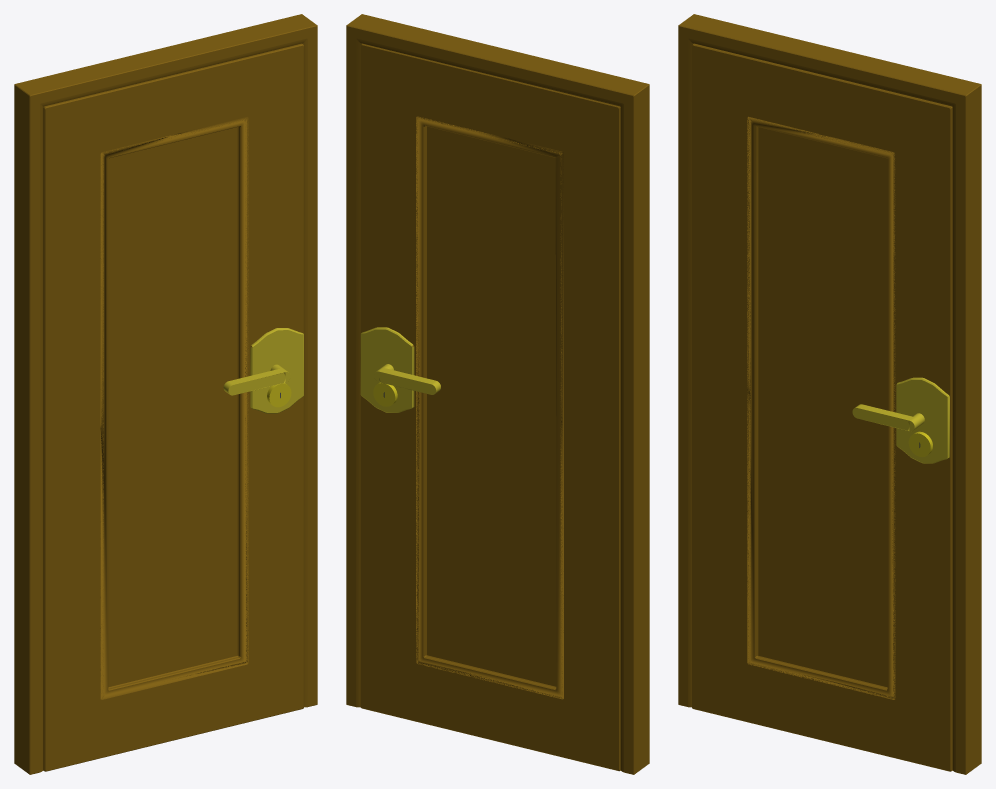
3 renders of one model, left to right at view 1: azimuth 30°, elevation 25°; view 2: azimuth 150°, elevation 25°; view 3: azimuth 330°, elevation 25°, orthographic.
Visible parts, largest first — view 1: 平面.001, 平面, 平面.002, 円; view 2: 平面.001, 平面, 平面.002, 円; view 3: 平面.001, 平面, 平面.002, 円.
Part boxes in pixels (x1,y1,x2,y2): 平面.001: (43, 43, 303, 771); 平面: (14, 14, 317, 774); 平面.002: (250, 328, 303, 413); 円: (223, 364, 290, 395); 平面.001: (360, 43, 620, 771); 平面: (346, 14, 649, 774); 平面.002: (360, 327, 414, 412); 円: (374, 364, 440, 394); 平面.001: (692, 43, 952, 771); 平面: (678, 14, 981, 774); 平面.002: (896, 377, 949, 463); 円: (852, 404, 924, 431).
Size of the model in its own units: 200 by 451 by 47.25.
